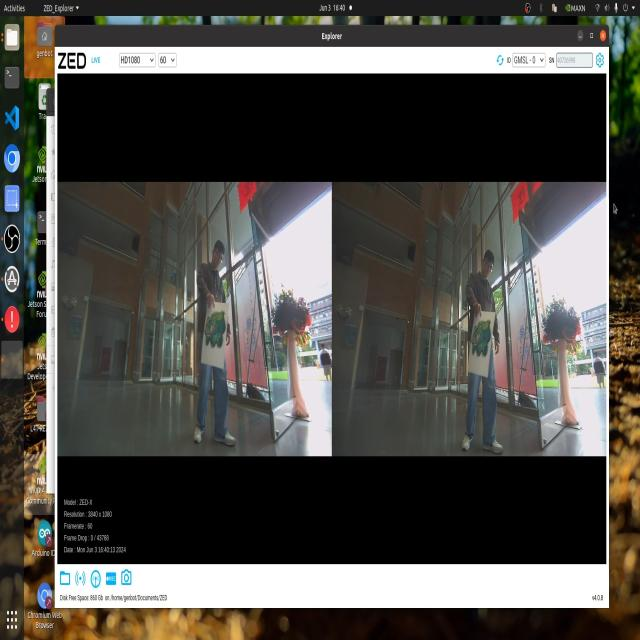green: (201, 308, 231, 354), (466, 319, 495, 361)
